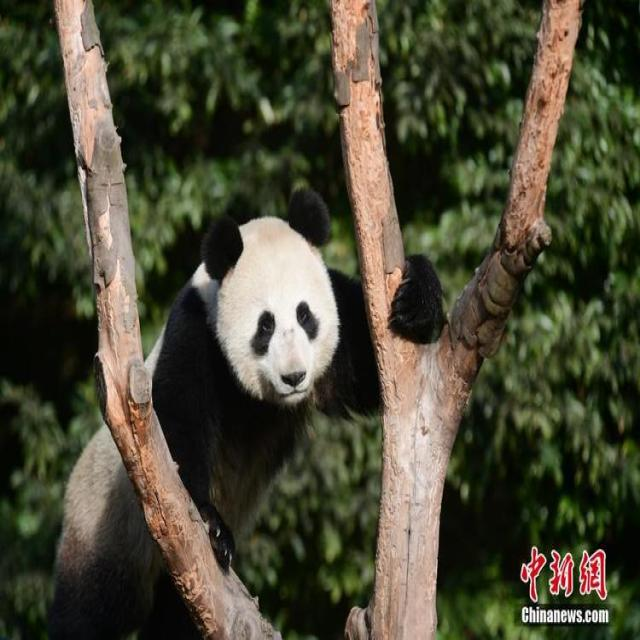panda: (50, 178, 448, 591)
